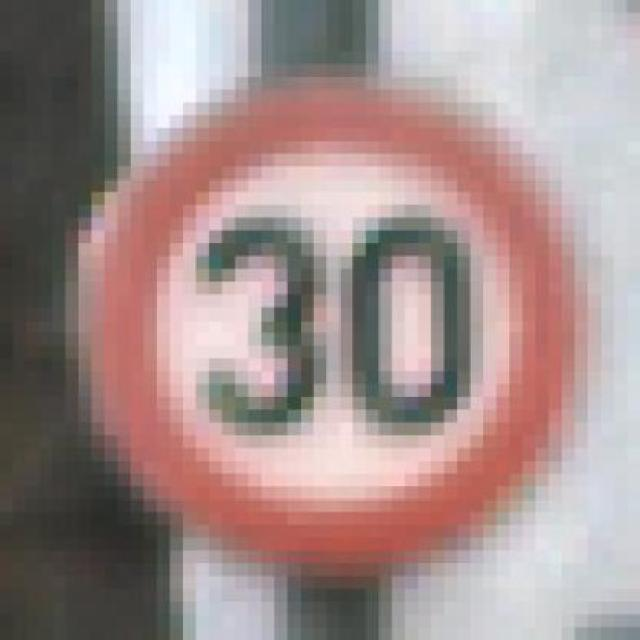Speed Limit 30 KMPh: (26, 64, 614, 588)
